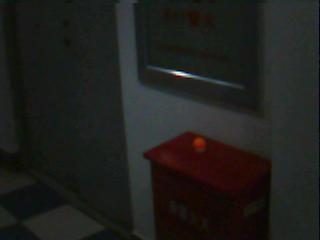oball: (195, 137, 205, 148)
